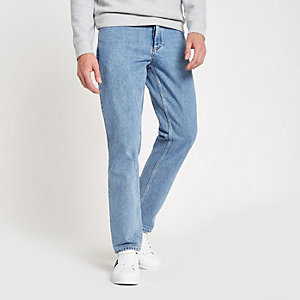jeans: (75, 24, 202, 250)
